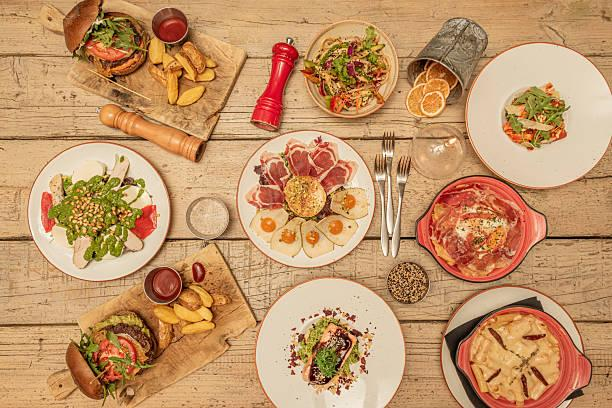Braised Crucian Carp: (53, 241, 259, 407), (64, 0, 246, 144), (463, 39, 612, 191), (26, 141, 170, 280), (253, 278, 407, 407), (436, 285, 593, 408), (234, 130, 371, 267), (415, 175, 547, 284), (301, 19, 398, 119)
